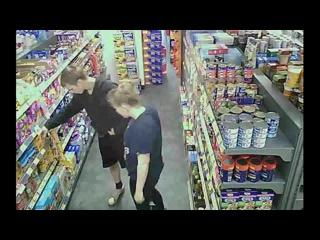Normal: (42, 66, 130, 206), (106, 82, 164, 208)
